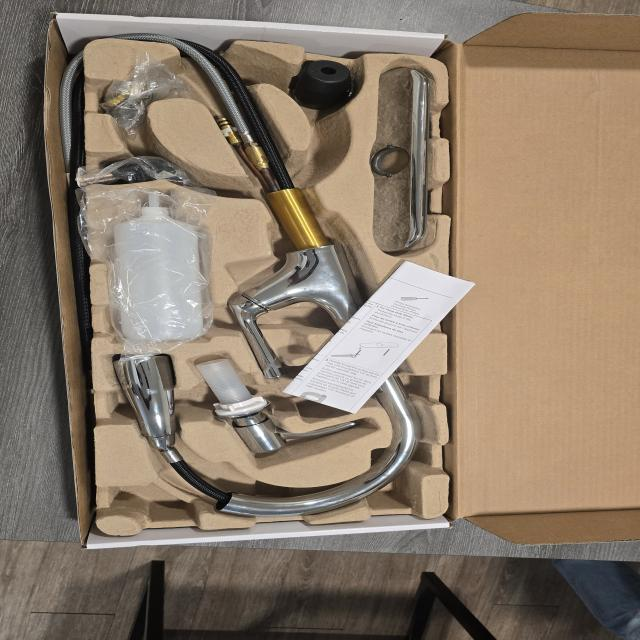1o: (115, 44, 420, 517)
2: (196, 358, 359, 455)
3: (110, 194, 204, 340)
4: (379, 68, 425, 254)
5: (285, 62, 353, 111)
6: (97, 49, 189, 127)
7: (77, 157, 185, 185)
8: (280, 260, 478, 414)
